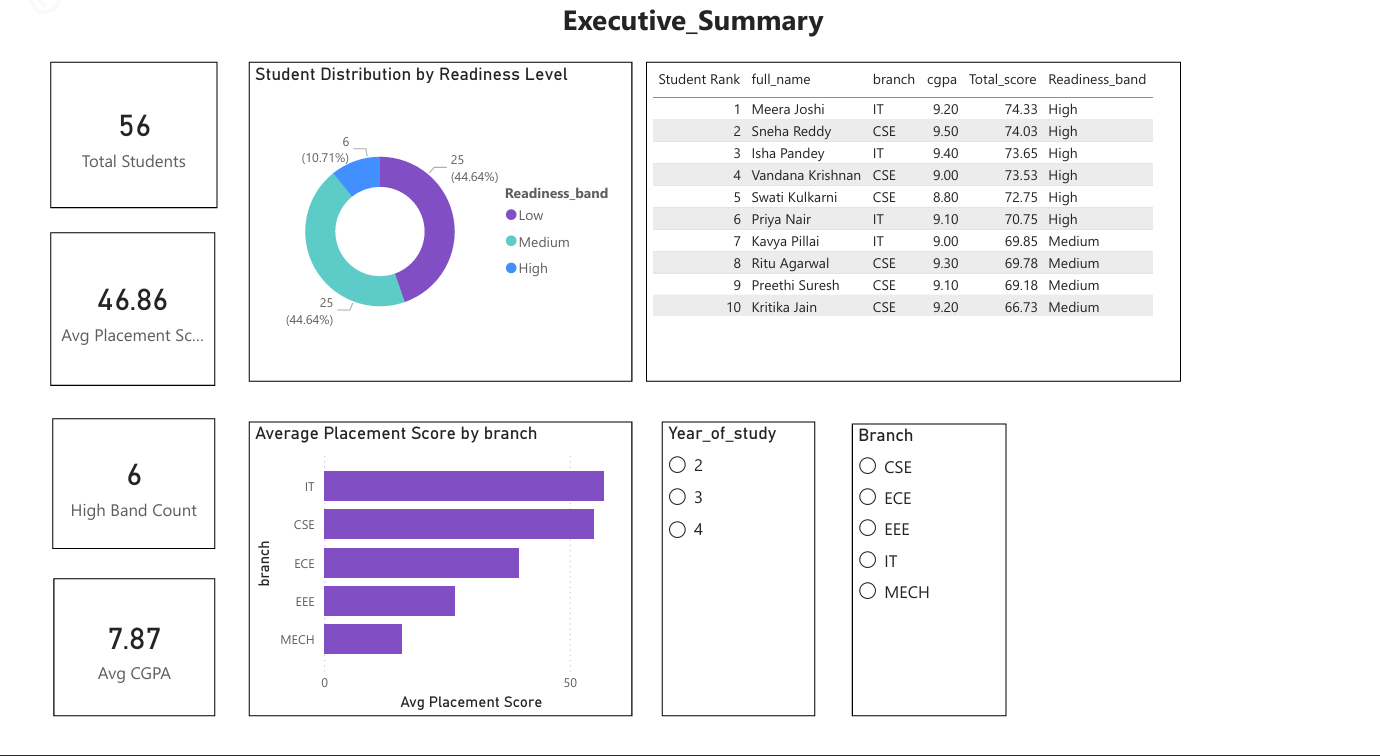

Layout of this report page (visuals, bound fields, positions):
{"tool":"powerbi","page":{"name":"Executive_Summary","canvas":[1280,720],"ordinal":0},"visuals":[{"type":"card","fields":{"Values":["Main_Data.Total Students"]},"box":[24.6,81.3,160.6,139.8],"z":0},{"type":"card","fields":{"Values":["Main_Data.Avg Placement Score"]},"box":[24.6,243.8,158.7,147.4],"z":1000},{"type":"card","fields":{"Values":["Main_Data.High Band Count"]},"box":[26.7,421.7,156.7,125],"z":2000},{"type":"card","fields":{"Values":["Main_Data.Avg CGPA"]},"box":[28.3,575,155,131.7],"z":3000},{"type":"donutChart","title":"Student Distribution by Readiness Level","fields":{"Y":["Main_Data.Total Students"],"Category":["Main_Data.Readiness_band"]},"box":[215.4,81.3,366.6,306.1],"z":4000},{"type":"clusteredBarChart","title":"Average Placement Score by branch","fields":{"Y":["Main_Data.Avg Placement Score"],"Category":["Main_Data.branch"]},"box":[215,425,366.7,281.7],"z":5000},{"type":"tableEx","fields":{"Values":["Main_Data.Student Rank","Main_Data.full_name","Main_Data.branch","Main_Data.cgpa","Main_Data.Total_score","Main_Data.Readiness_band"]},"box":[595.3,81.3,512.1,306.1],"z":6000},{"type":"actionButton","box":[0,0,100,40],"z":7000},{"type":"listSlicer","title":"Year_of_study","fields":{"Values":["Main_Data.year_of_study"]},"box":[610,425,146.7,281.7],"z":8000},{"type":"listSlicer","title":"Branch","fields":{"Values":["Main_Data.branch"]},"box":[791.7,426.7,148.3,280],"z":9000},{"type":"textbox","box":[0,16.7,1280,48.3],"z":10000}]}

Visuals, with their boxes in screenshot pixels (x1, y1, x2, y2), scaled from the page's 1280x720 canvas onto the 1380x756 screenshot:
card - Main_Data.Total Students: 27/85/200/232
card - Main_Data.Avg Placement Score: 27/256/198/411
card - Main_Data.High Band Count: 29/443/198/574
card - Main_Data.Avg CGPA: 31/604/198/742
"Student Distribution by Readiness Level" donutChart: 232/85/627/407
"Average Placement Score by branch" clusteredBarChart: 232/446/627/742
tableEx - Main_Data.Student Rank x Main_Data.full_name: 642/85/1194/407
actionButton: 0/0/108/42
"Year_of_study" listSlicer: 658/446/816/742
"Branch" listSlicer: 854/448/1013/742
textbox: 0/18/1379/68
